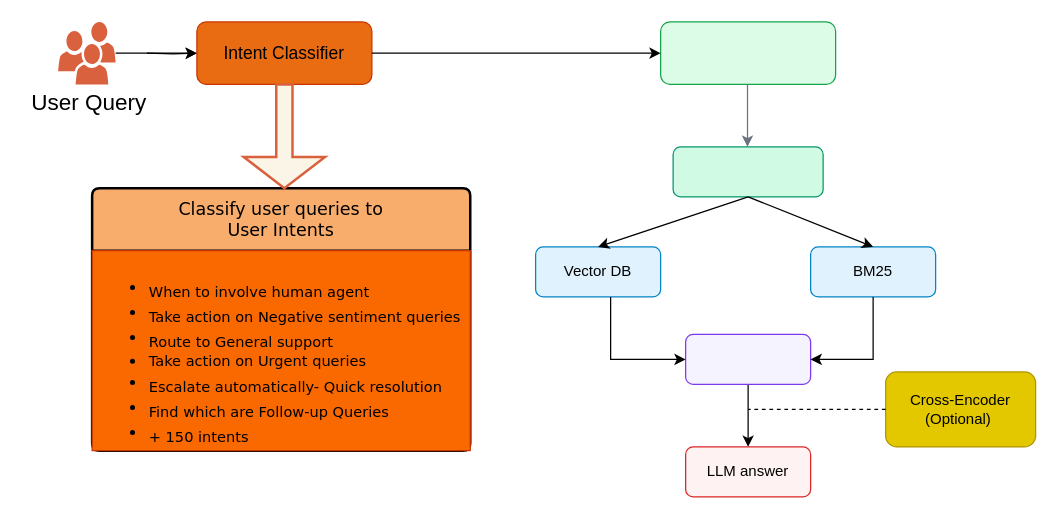
Image size: 1058x519. Some labels were removed from this diagram. The centre of each missing label's shape, as x and y in pixels:
RAG Flow Focused retrieval: (747,171)
Routing Decisions: (747,52)
RRF fusion: (747,358)
